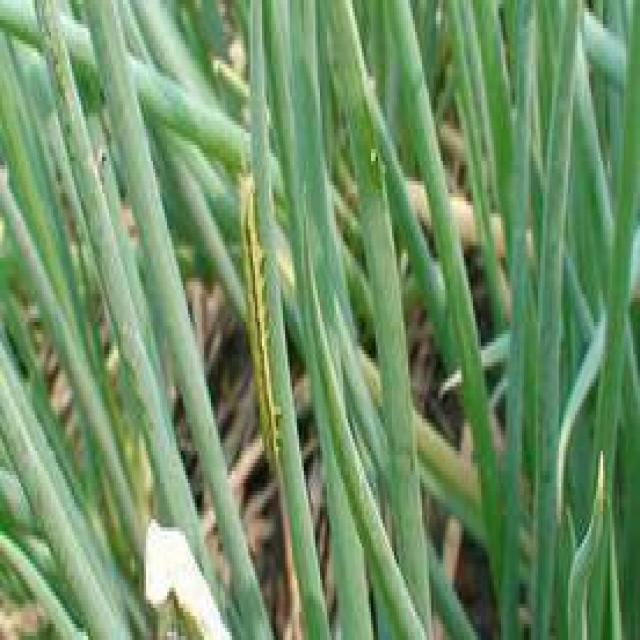BeetArmyWorm-Larva-: (235, 173, 287, 474)
